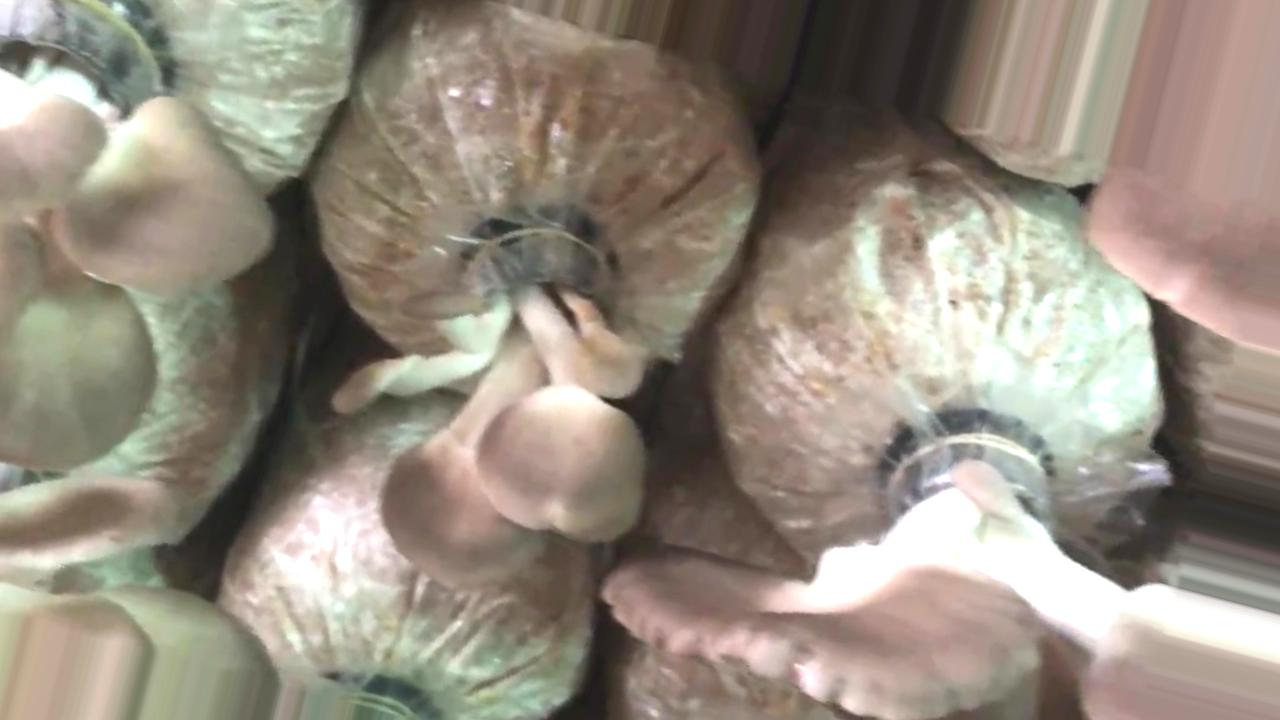nam: (599, 430, 1280, 712), (349, 200, 656, 599), (1, 1, 277, 299)
